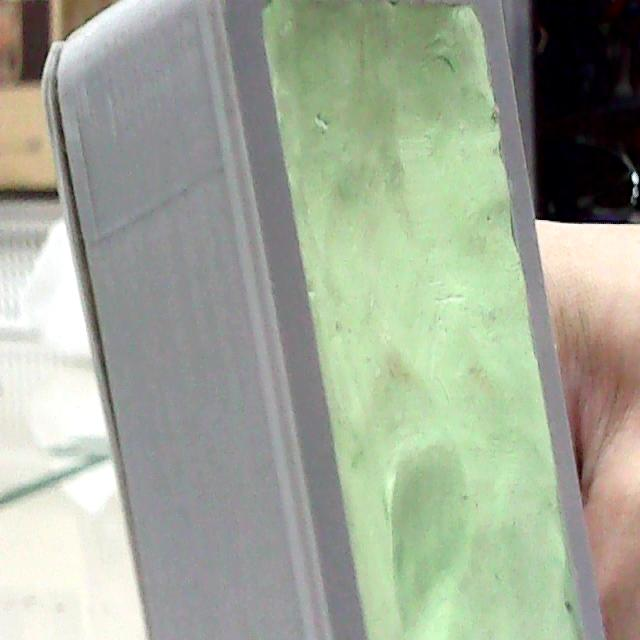block: (54, 9, 604, 636)
